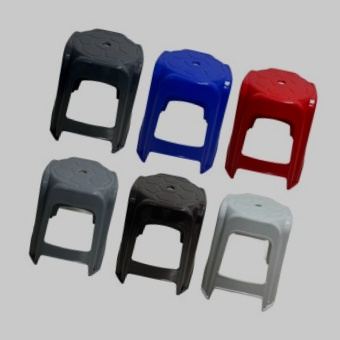plastic: (48, 17, 147, 149), (37, 153, 109, 258), (156, 45, 225, 151), (128, 169, 194, 277)
